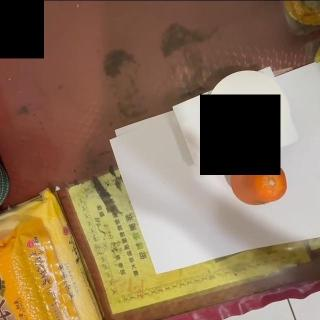carrot: (230, 154, 288, 208)
